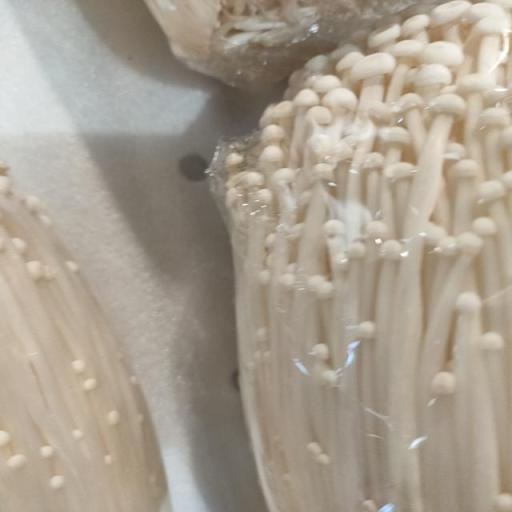Enoki Mushroom: (222, 3, 512, 511), (0, 154, 173, 508)
